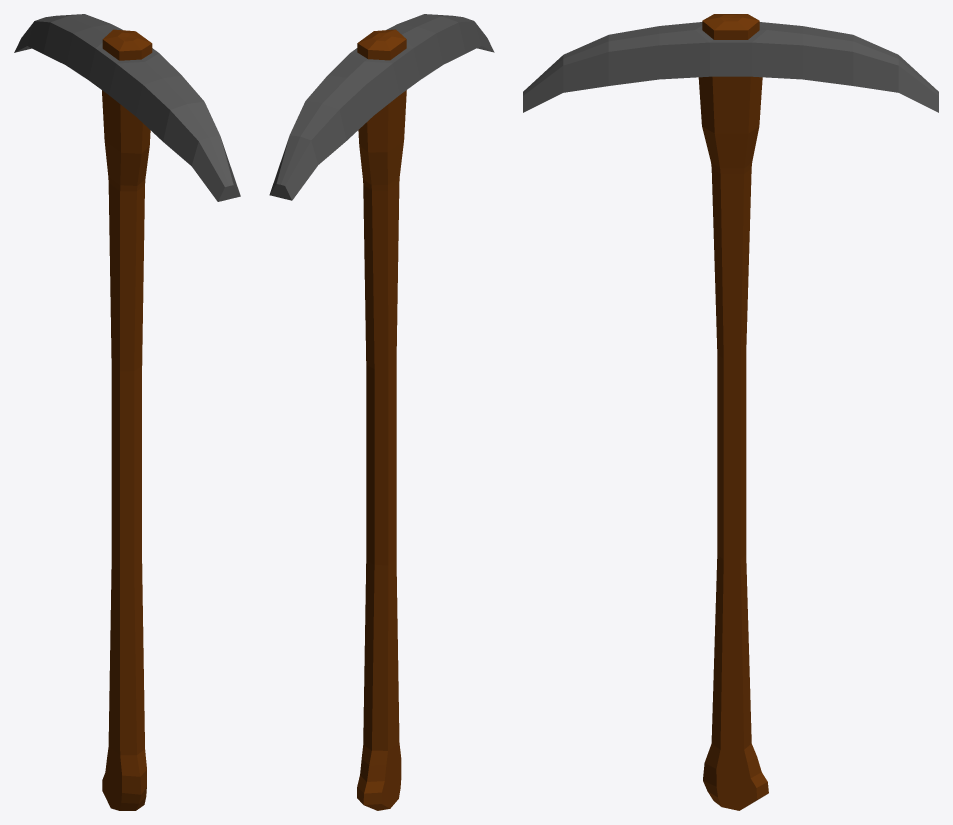
File: Pick Axe.fbx
3 views of the same model, side by side, from view 1: azimuth 30°, elevation 25°; view 2: azimuth 150°, elevation 25°; view 3: azimuth 270°, elevation 25° (orthographic). The views are drawn at different scales.
Parts seen in each view (by area): view 1: Melee Pickaxe; view 2: Melee Pickaxe; view 3: Melee Pickaxe.
Part boxes in pixels (bbox=[...]): Melee Pickaxe: bbox=[14, 14, 240, 810]; Melee Pickaxe: bbox=[269, 14, 494, 810]; Melee Pickaxe: bbox=[523, 14, 938, 810].
Bounding box in the file's own units: 32 × 414 × 197.
